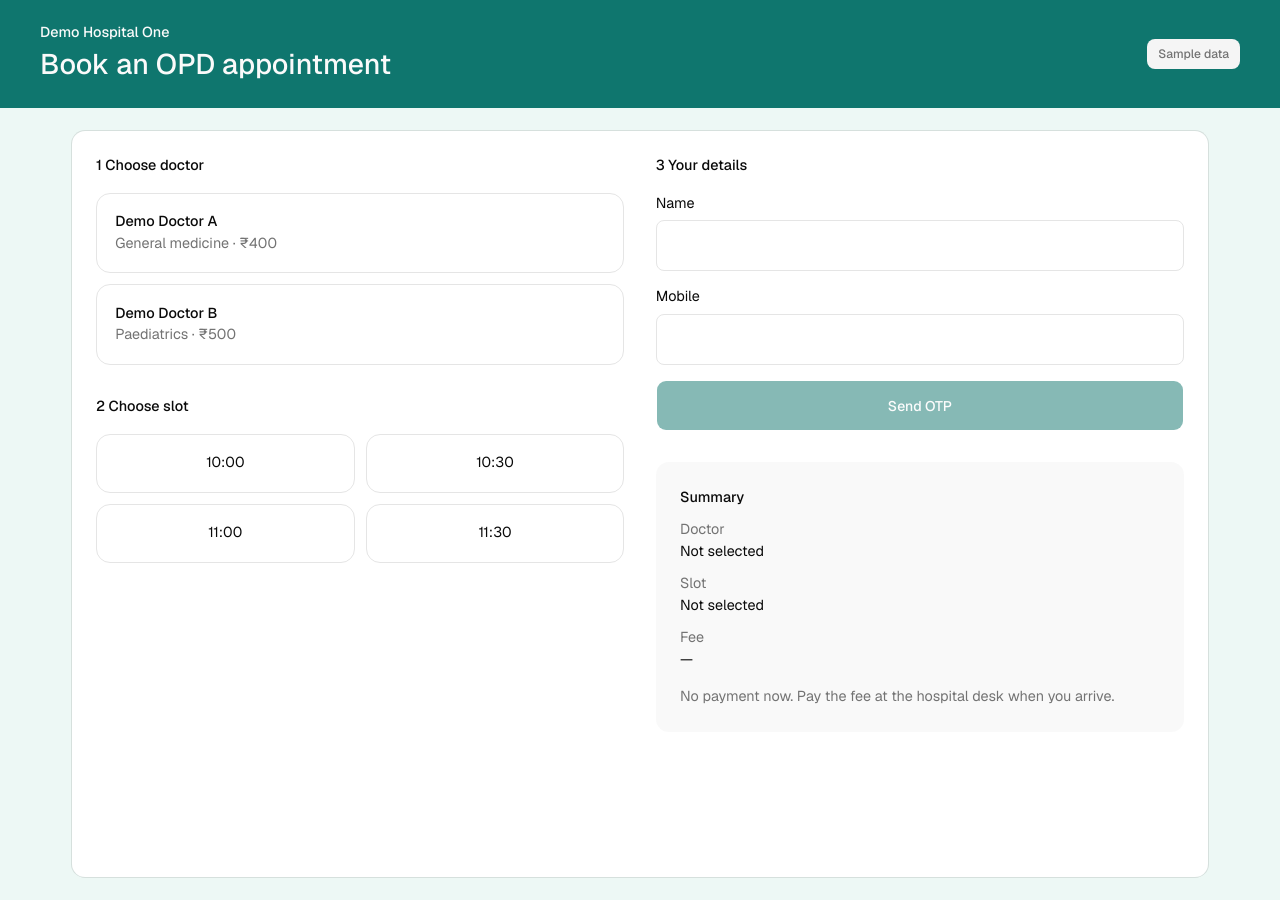
Test case: booking concept screen › enables Send OTP only after doctor, slot, name, and mobile are filled
The width and height of the screenshot is (1280, 900).
Expected: the button "Send OTP" is disabled, top-left (656, 380), bottom-right (1184, 431)
Click the button "Demo Doctor A General medicine · ₹400": (166,221) top-left (96, 192), bottom-right (624, 273)
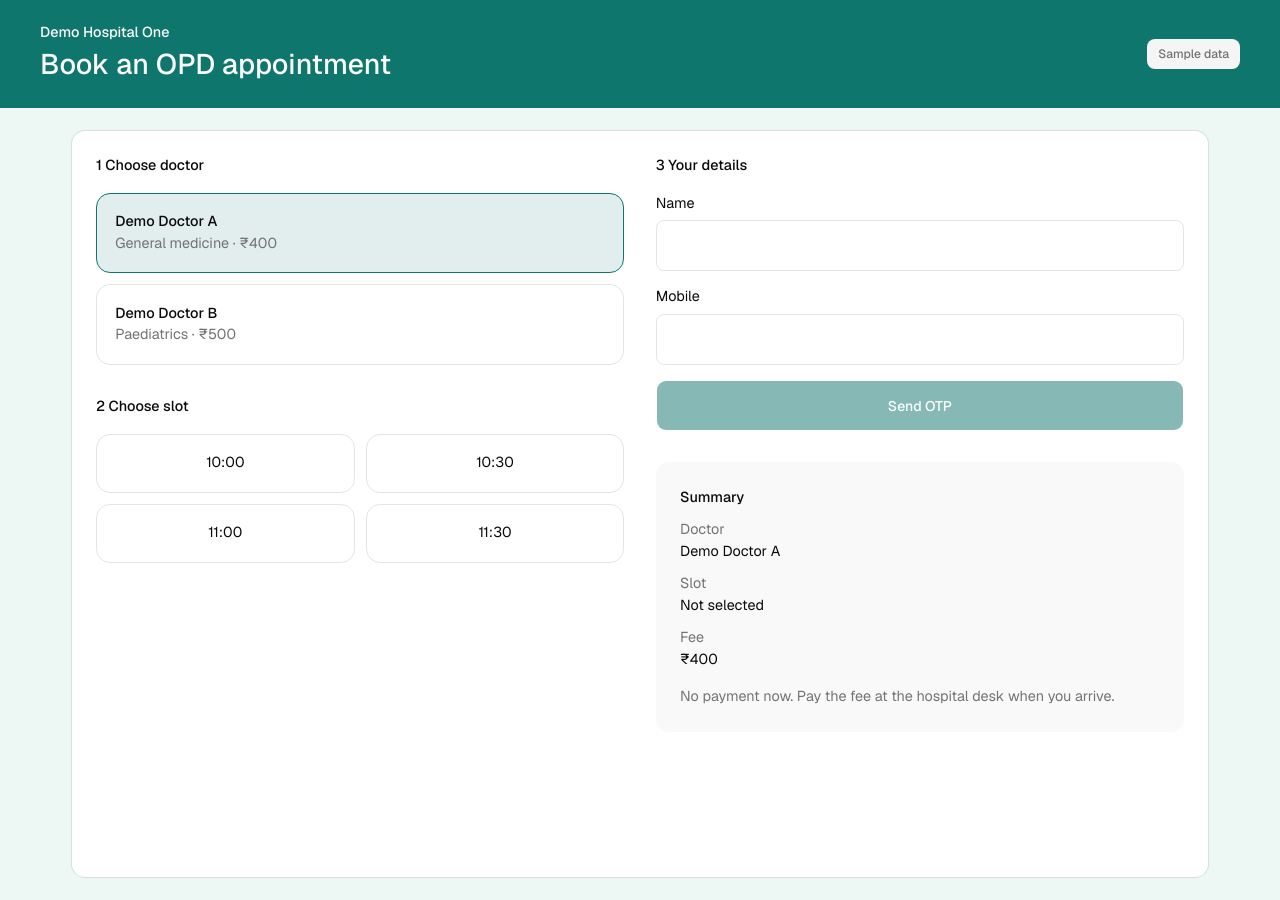
Expected: the button "Send OTP" is disabled, top-left (656, 380), bottom-right (1184, 431)
Click the button "10:30": (495,463) top-left (366, 434), bottom-right (624, 493)
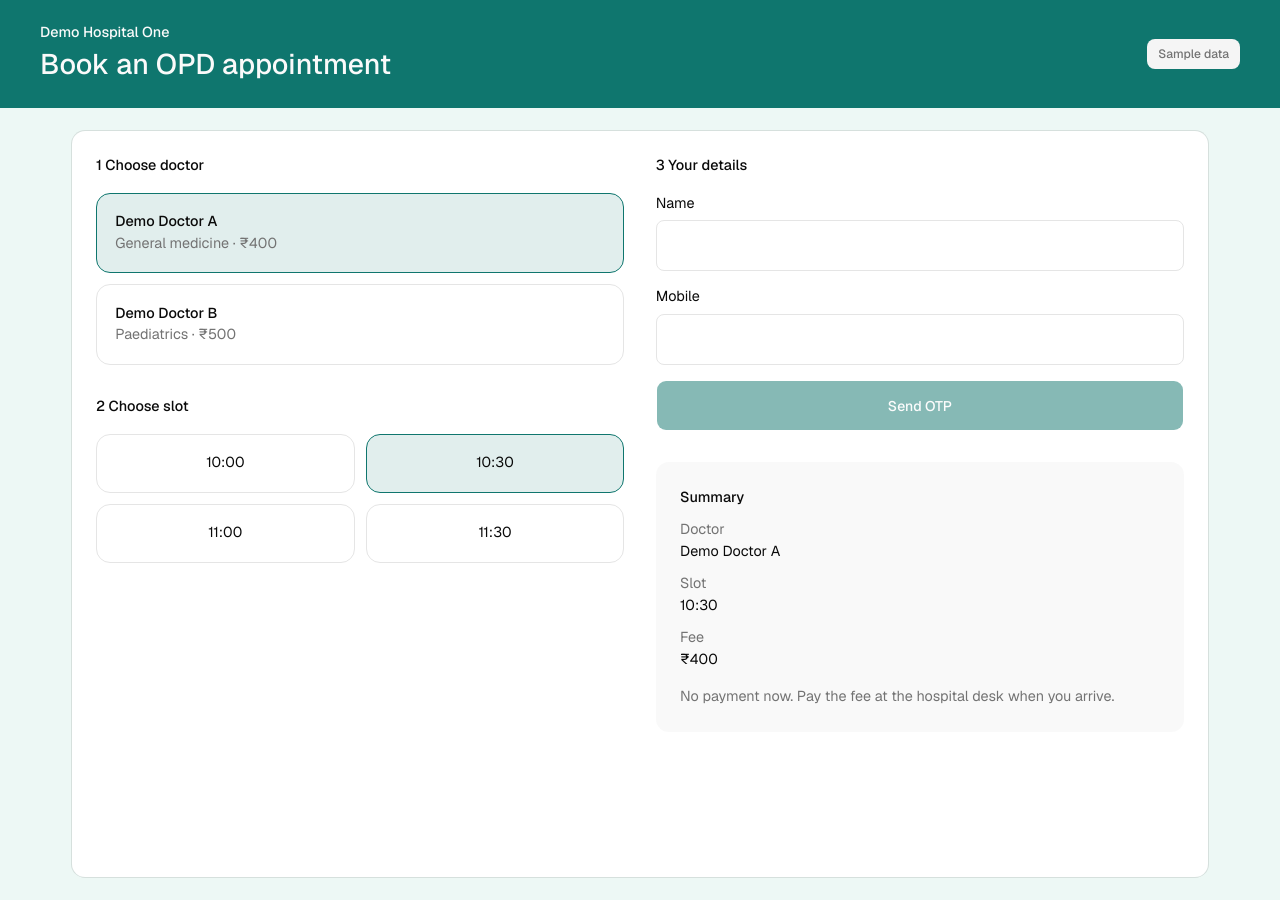
Expected: the button "Send OTP" is disabled, top-left (656, 380), bottom-right (1184, 431)
In the field labelled "Name": (920,245) top-left (656, 220), bottom-right (1184, 271), type "Sample Visitor"
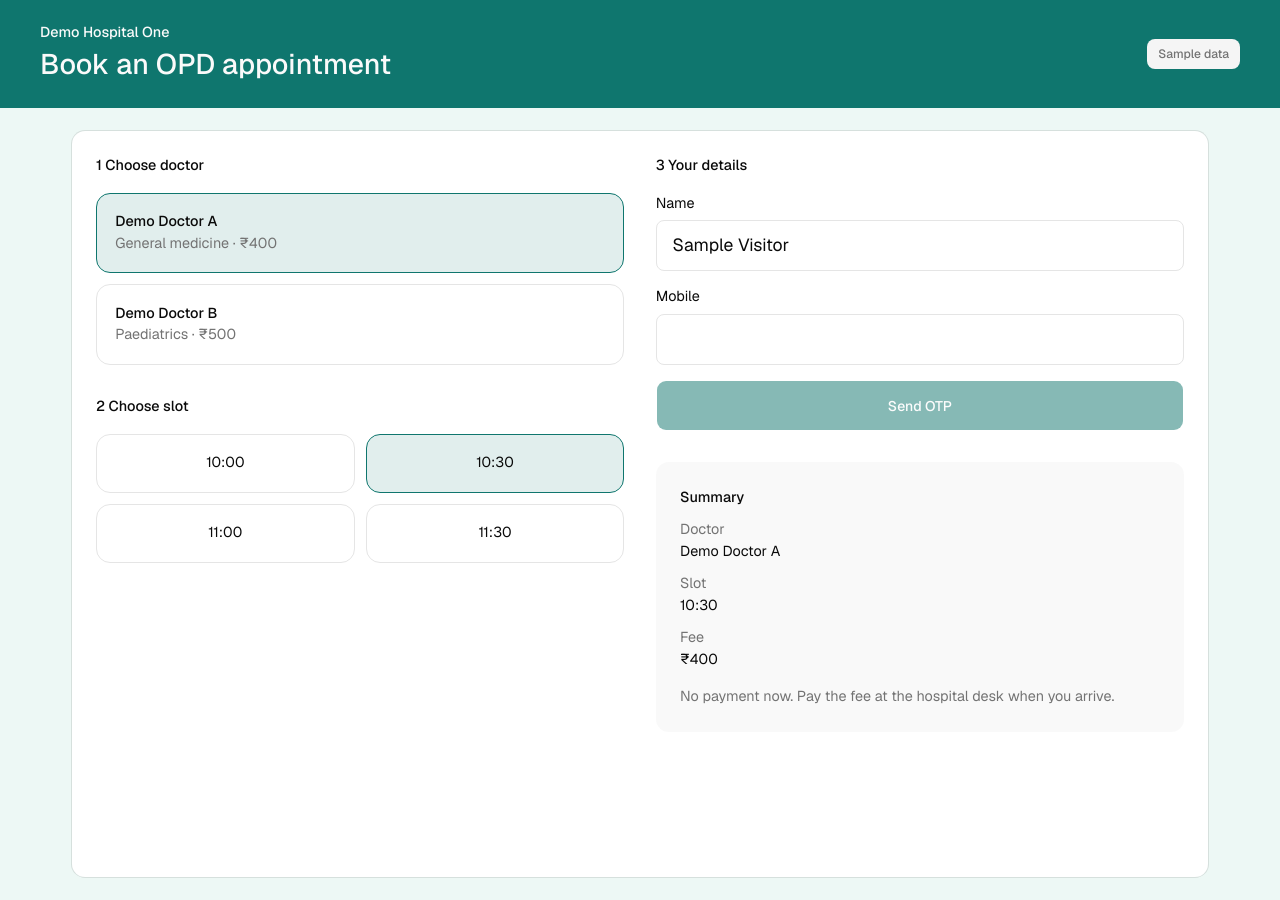
Expected: the button "Send OTP" is disabled, top-left (656, 380), bottom-right (1184, 431)
In the field labelled "Mobile": (920,339) top-left (656, 314), bottom-right (1184, 364), type "9000000001"
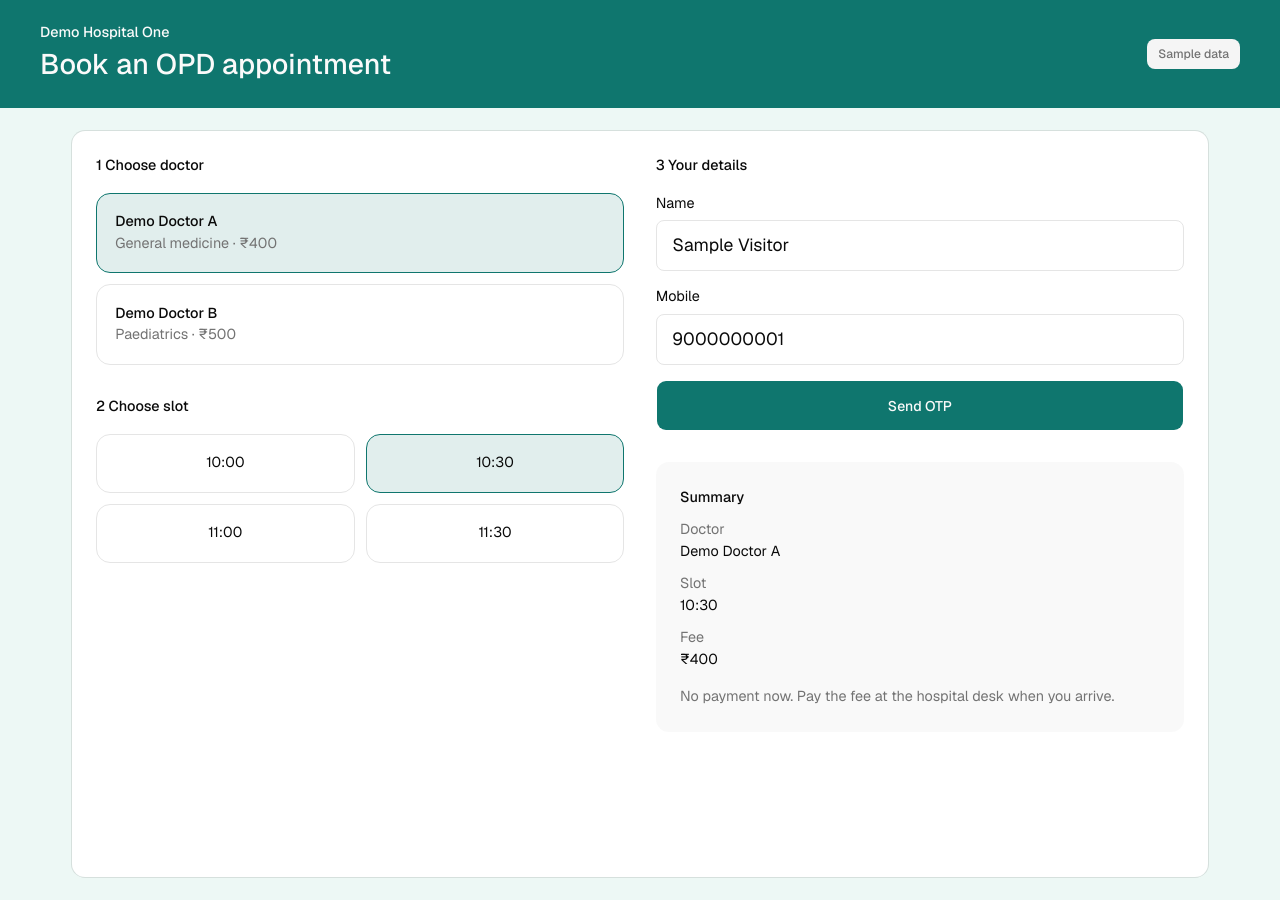
Now the button "Send OTP" is enabled, box top-left (656, 380), bottom-right (1184, 431)
